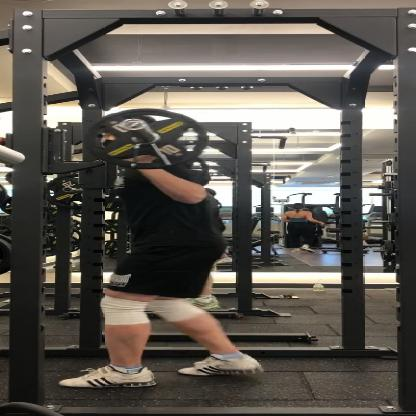Barbell: (76, 103, 215, 175)
